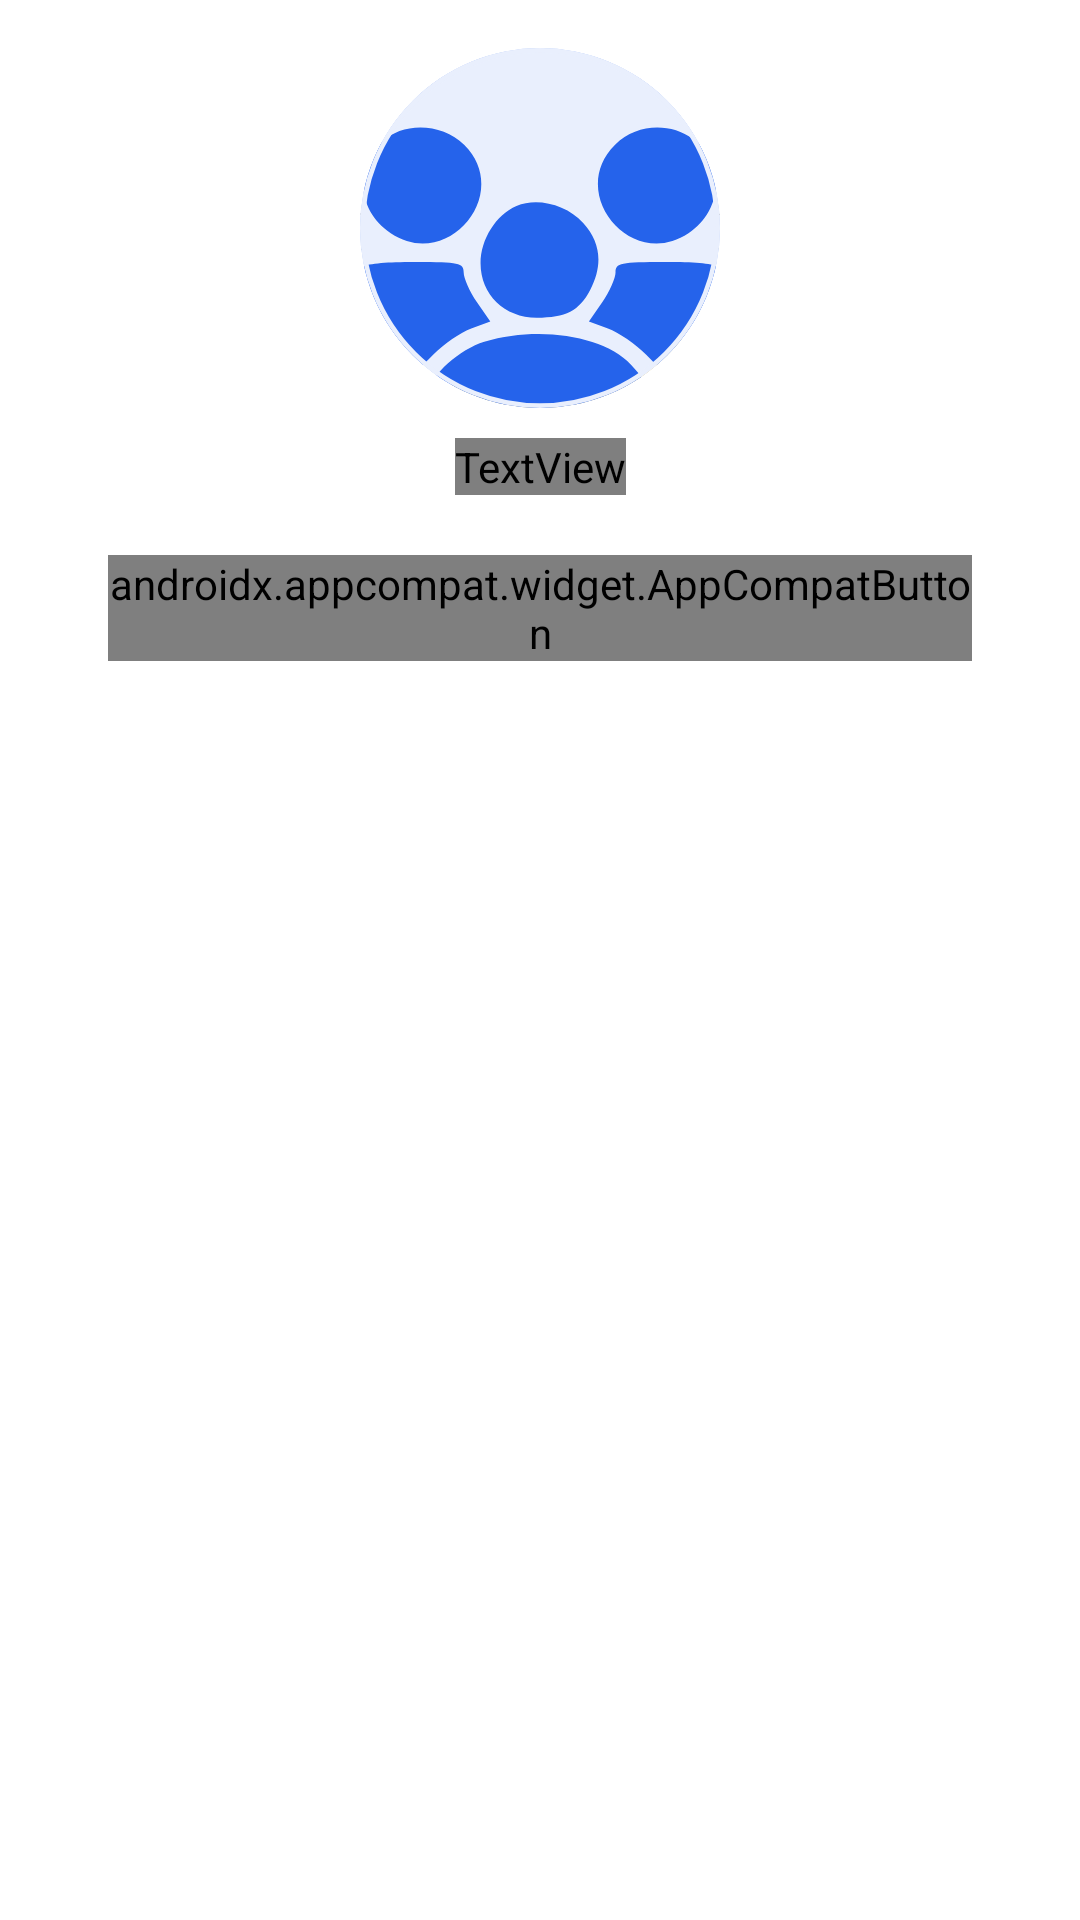

Locate icon controls on the screen. Image size 1080 x 1920, boxes as bbox=(x1, y1, x2, y2).
Change profile picture: bbox=(360, 48, 720, 408)
